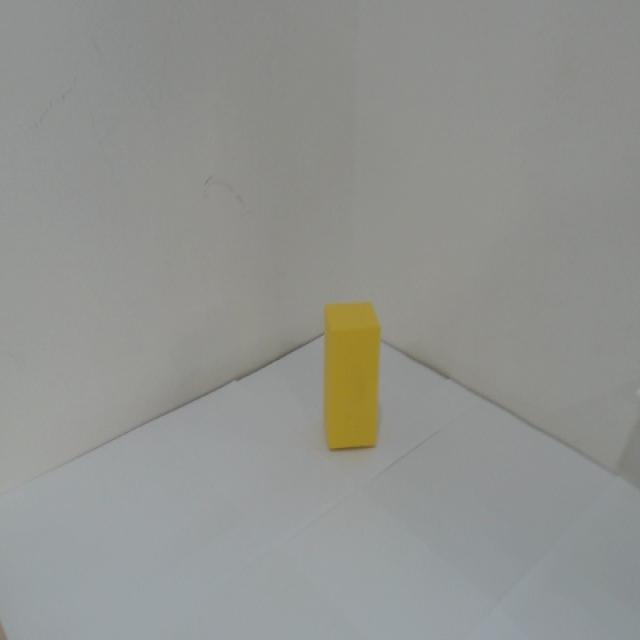cube: (314, 305, 386, 456)
